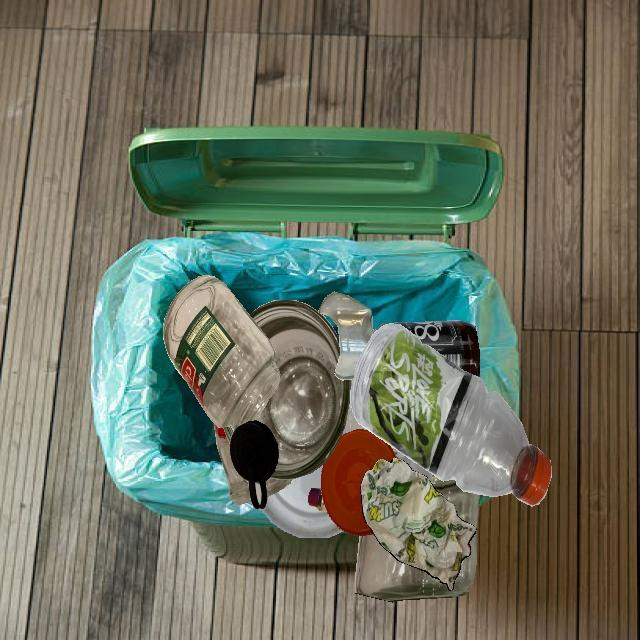glass: (163, 275, 280, 432), (250, 300, 351, 480), (355, 473, 480, 602), (373, 320, 480, 378), (318, 291, 373, 380), (214, 423, 251, 505), (266, 477, 291, 497), (308, 488, 327, 511)
paper: (360, 457, 477, 591)
plastic: (350, 323, 552, 506), (322, 429, 397, 536), (262, 464, 343, 537), (229, 421, 278, 510), (346, 379, 397, 458)
